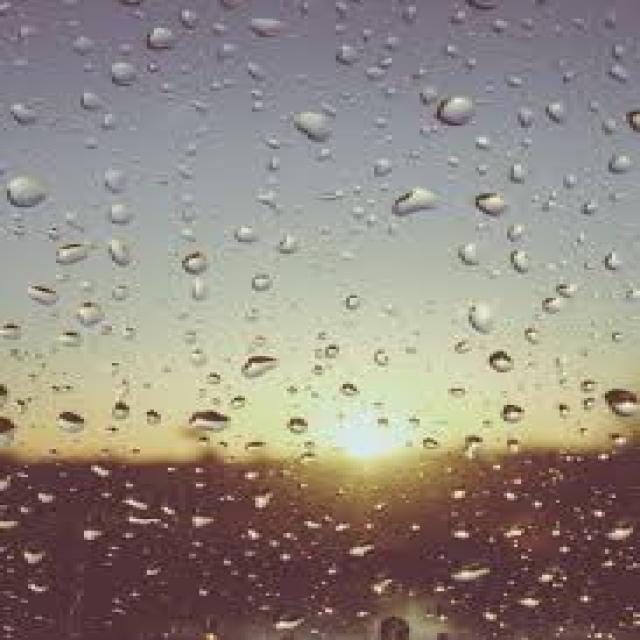raindrop: (279, 104, 353, 148), (383, 180, 449, 220), (0, 170, 60, 212), (100, 229, 152, 276), (86, 158, 144, 196), (0, 96, 55, 136), (432, 88, 482, 130), (235, 12, 303, 42), (460, 295, 506, 339), (594, 379, 640, 423), (232, 352, 290, 386), (185, 403, 243, 437), (468, 186, 522, 222), (140, 17, 187, 56), (441, 556, 497, 588), (93, 197, 145, 230), (17, 279, 72, 310), (67, 297, 119, 329), (107, 56, 152, 92), (450, 237, 490, 277), (50, 325, 94, 358), (16, 539, 58, 573), (599, 513, 640, 545), (47, 407, 92, 436), (492, 400, 540, 427), (332, 36, 368, 72), (503, 247, 543, 279), (478, 348, 522, 376), (50, 238, 91, 268), (180, 248, 216, 280), (540, 96, 574, 126), (536, 292, 572, 318), (551, 277, 588, 301), (515, 104, 544, 132)
